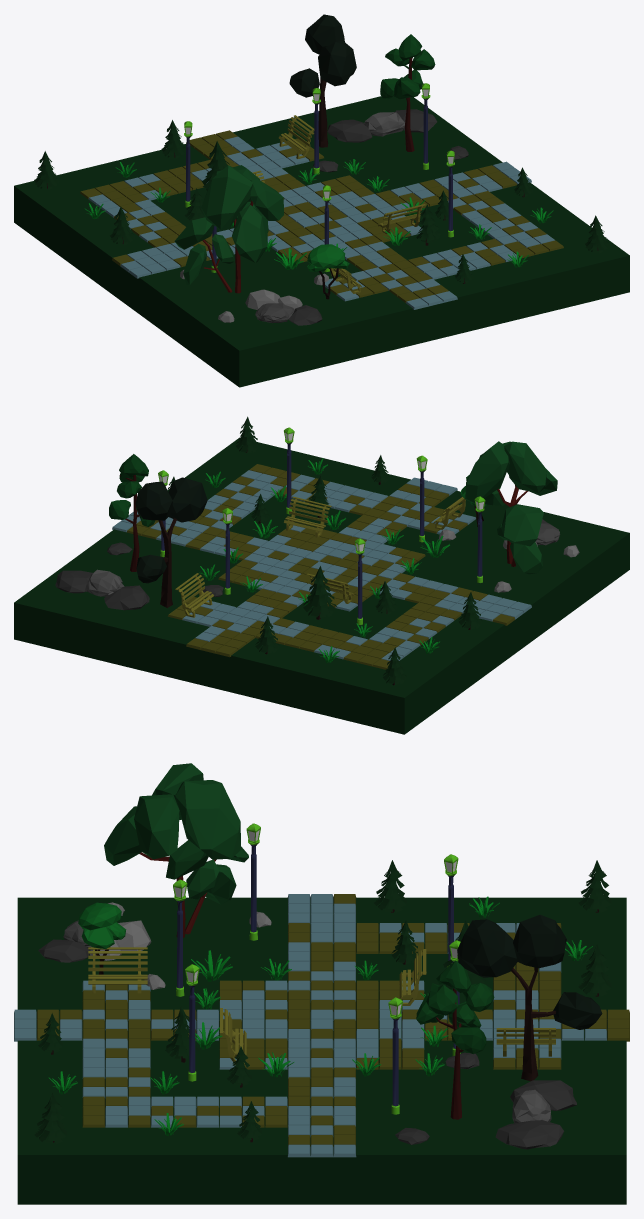
Rendered from SmallPark.FBX.
3 views of the same model, one above another, from view 1: azimuth 30°, elevation 25°; view 2: azimuth 150°, elevation 25°; view 3: azimuth 270°, elevation 25° (orthographic). The views are drawn at different scales.
Parts seen in each view (by area): view 1: base10x10green; view 2: base10x10green; view 3: base10x10green.
Boxes of the visible parts, x1,y1,x2,y2 form: base10x10green: (14, 14, 629, 387); base10x10green: (14, 416, 629, 734); base10x10green: (14, 763, 629, 1204).
Size of the model in its own units: 10114 by 3971 by 10114.
